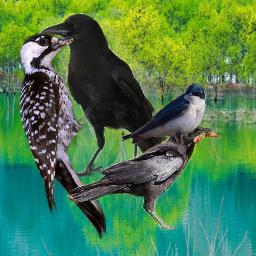Crow: (38, 13, 177, 179), (66, 120, 231, 230)
Swallow: (120, 83, 207, 144)
Woodpecker: (17, 33, 106, 239)
